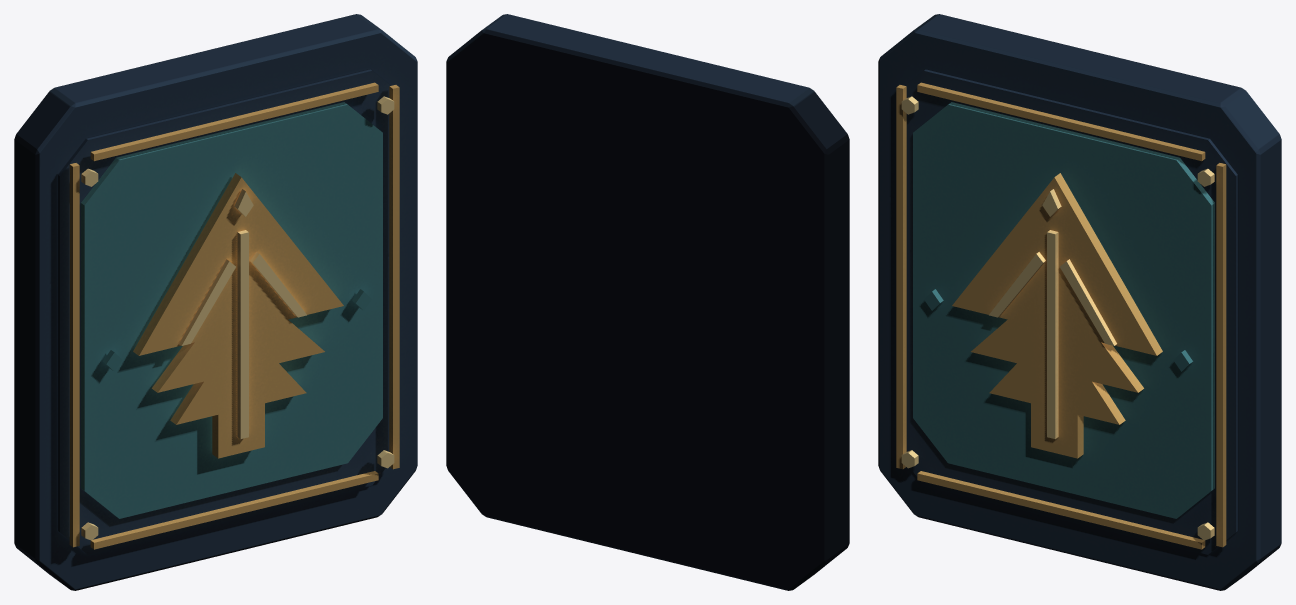
The model's file is 0-20261016-1900-ev005-r01-lobby-crestwallplaque_baked.glb.
3 renders of one model, left to right at view 1: azimuth 30°, elevation 25°; view 2: azimuth 150°, elevation 25°; view 3: azimuth 330°, elevation 25°, orthographic.
Visible parts, largest first — view 1: SW_Lobby_CrestWallPlaque; view 2: SW_Lobby_CrestWallPlaque; view 3: SW_Lobby_CrestWallPlaque.
Boxes of the visible parts, box(x1,y1,x2,y2) form: SW_Lobby_CrestWallPlaque: box(14, 14, 417, 590); SW_Lobby_CrestWallPlaque: box(446, 14, 849, 590); SW_Lobby_CrestWallPlaque: box(878, 14, 1281, 590).
Bounding box in the file's own units: 1.64 × 2 × 0.312.
1 material, 1 textured.
